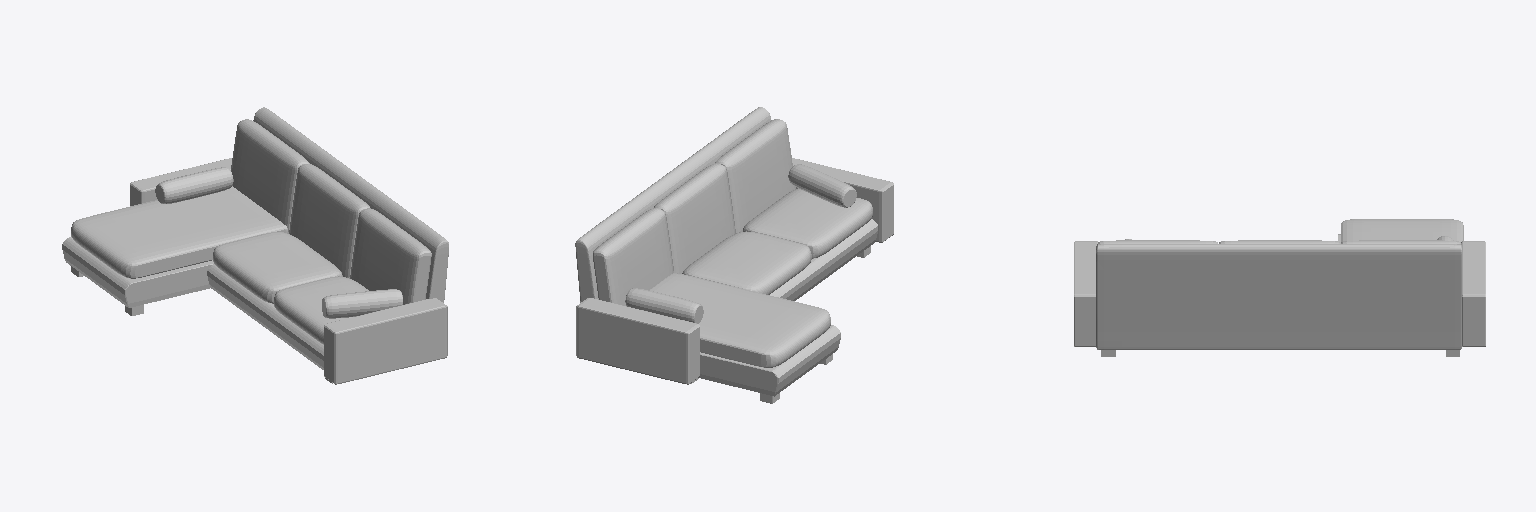
File: sofa.obj
The picture shows the model from 3 angles: view 1: azimuth 30°, elevation 25°; view 2: azimuth 150°, elevation 25°; view 3: azimuth 270°, elevation 25°; orthographic projection.
Parts seen in each view (by area): view 1: Parallele8, Parallelep, Parallele7, Parallel11, Parallel10, Parallele6, Parallel12, Parallel13, Parallele5, Parallele9, Cilindro01, Cilindro02 (+1 smaller); view 2: Parallele8, Parallele4, Parallel11, Parallel12, Parallel10, Parallele7, Parallele6, Parallele9, Parallel13, Parallele5, Parallelep, Cilindro02 (+1 smaller); view 3: Parallele6, Parallele4, Parallele8, Parallelep.
Boxes of the visible parts, x1=… form: Parallele8: x1=71, y1=186, x2=287, y2=278; Parallelep: x1=324, y1=298, x2=447, y2=384; Parallele7: x1=213, y1=232, x2=342, y2=303; Parallel11: x1=289, y1=164, x2=369, y2=278; Parallel10: x1=350, y1=208, x2=431, y2=304; Parallele6: x1=253, y1=107, x2=448, y2=302; Parallel12: x1=231, y1=119, x2=309, y2=233; Parallel13: x1=62, y1=237, x2=213, y2=307; Parallele5: x1=207, y1=264, x2=323, y2=369; Parallele9: x1=274, y1=276, x2=368, y2=344; Cilindro01: x1=155, y1=167, x2=233, y2=203; Cilindro02: x1=322, y1=289, x2=402, y2=318; Parallele8: x1=650, y1=273, x2=830, y2=367; Parallele4: x1=576, y1=298, x2=699, y2=384; Parallel11: x1=654, y1=163, x2=734, y2=273; Parallel12: x1=593, y1=208, x2=673, y2=305; Parallel10: x1=715, y1=119, x2=795, y2=233; Parallele7: x1=682, y1=231, x2=811, y2=294; Parallele6: x1=575, y1=107, x2=770, y2=302; Parallele9: x1=743, y1=188, x2=872, y2=258; Parallel13: x1=699, y1=325, x2=840, y2=396; Parallele5: x1=770, y1=219, x2=877, y2=300; Parallelep: x1=792, y1=158, x2=893, y2=242; Cilindro02: x1=788, y1=164, x2=856, y2=207; Parallele6: x1=1096, y1=244, x2=1461, y2=349; Parallele4: x1=1461, y1=241, x2=1485, y2=346; Parallele8: x1=1341, y1=219, x2=1463, y2=241; Parallelep: x1=1074, y1=241, x2=1097, y2=346.
Bounding box in the file's own units: 163 × 89.9 × 284.